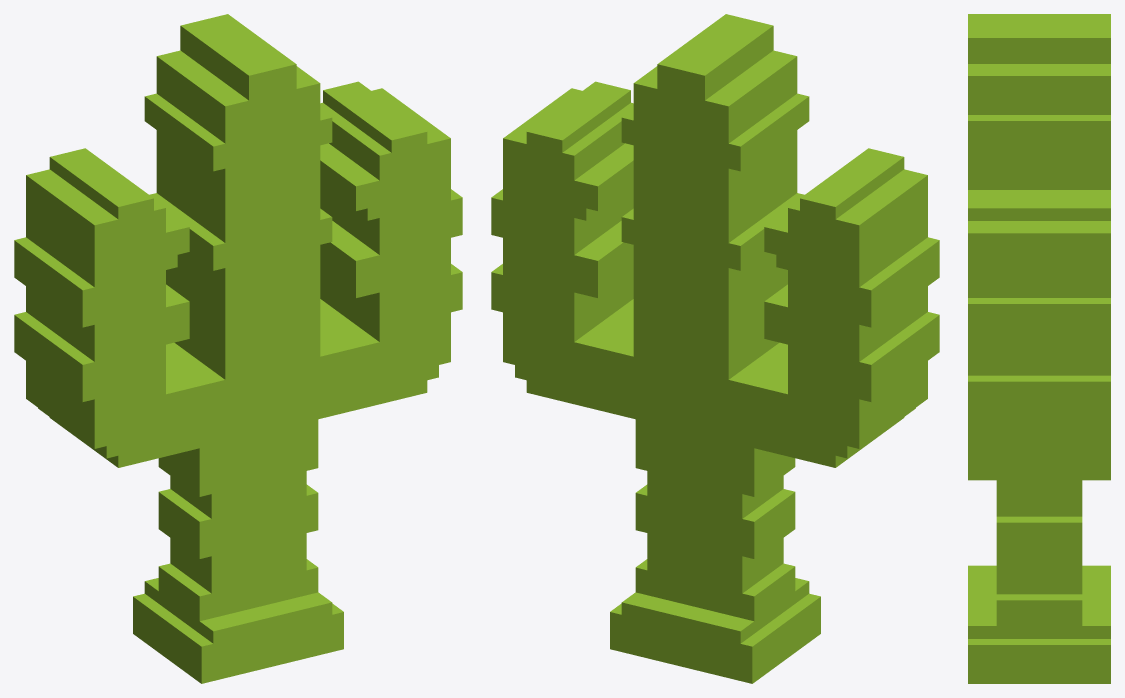
File: Catus.fbx
The picture shows the model from 3 angles, left to right: view 1: azimuth 30°, elevation 25°; view 2: azimuth 150°, elevation 25°; view 3: azimuth 270°, elevation 25°; orthographic projection. The views are drawn at different scales.
Parts seen in each view (by area): view 1: Catus; view 2: Catus; view 3: Catus.
Boxes of the visible parts, x1,y1,x2,y2 form: Catus: (14, 14, 462, 683); Catus: (491, 14, 939, 683); Catus: (968, 14, 1110, 683).
Size of the model in its own units: 32 by 48 by 10.
1 material, 1 textured.
